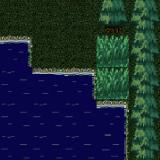Interaction: (40, 64, 107, 84), (111, 114, 128, 160), (0, 30, 39, 47), (90, 82, 108, 116), (28, 47, 40, 84), (108, 96, 128, 115)
Obstacle: (128, 0, 160, 160), (96, 2, 129, 36)
Slow: (27, 76, 91, 160), (0, 45, 27, 160), (96, 36, 128, 100), (92, 109, 124, 160)
